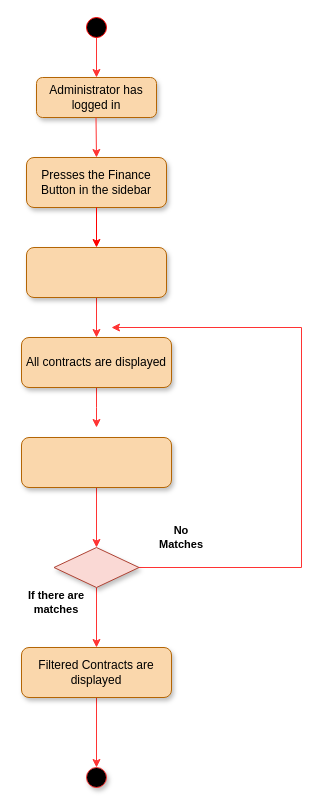
This 327x812 diagram has some shape labels left out. The centre of each missing label's shape, as x and y in pixels:
"Presses the Contracts button" belongs at (97,273).
"Start Writing Letters in Search box" belongs at (97,463).
